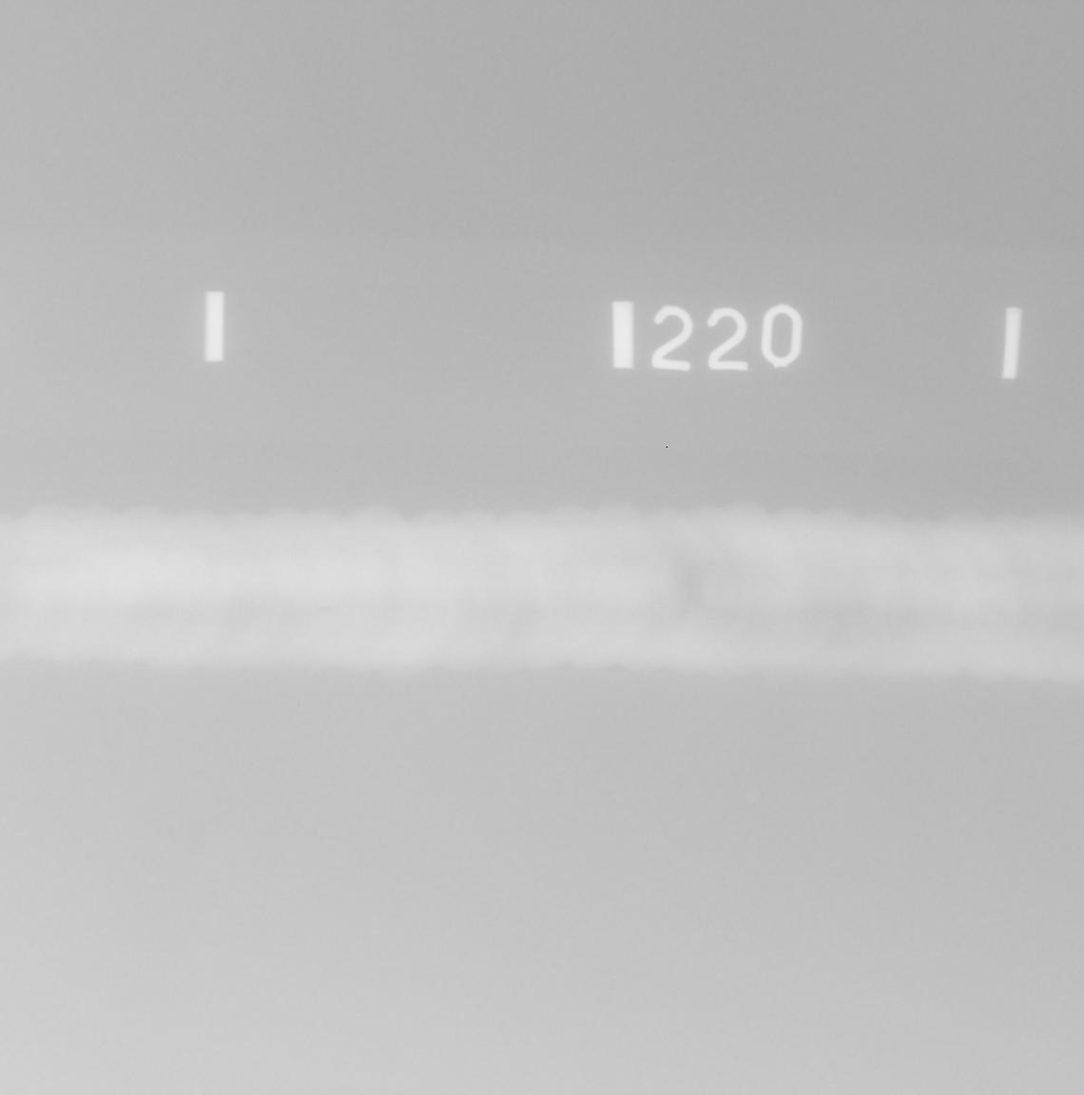Inclusion: (316, 607, 330, 614), (689, 586, 693, 590)
Pore/Porosity: (708, 562, 711, 565)
